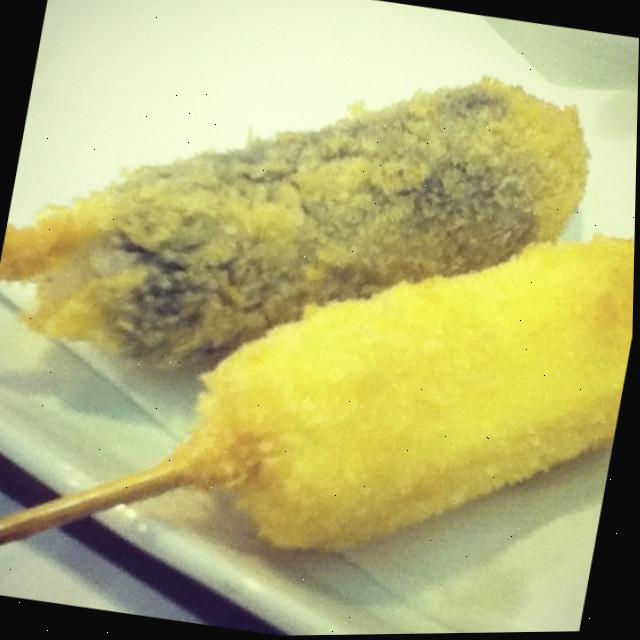米饭主食: (31, 0, 579, 593)
